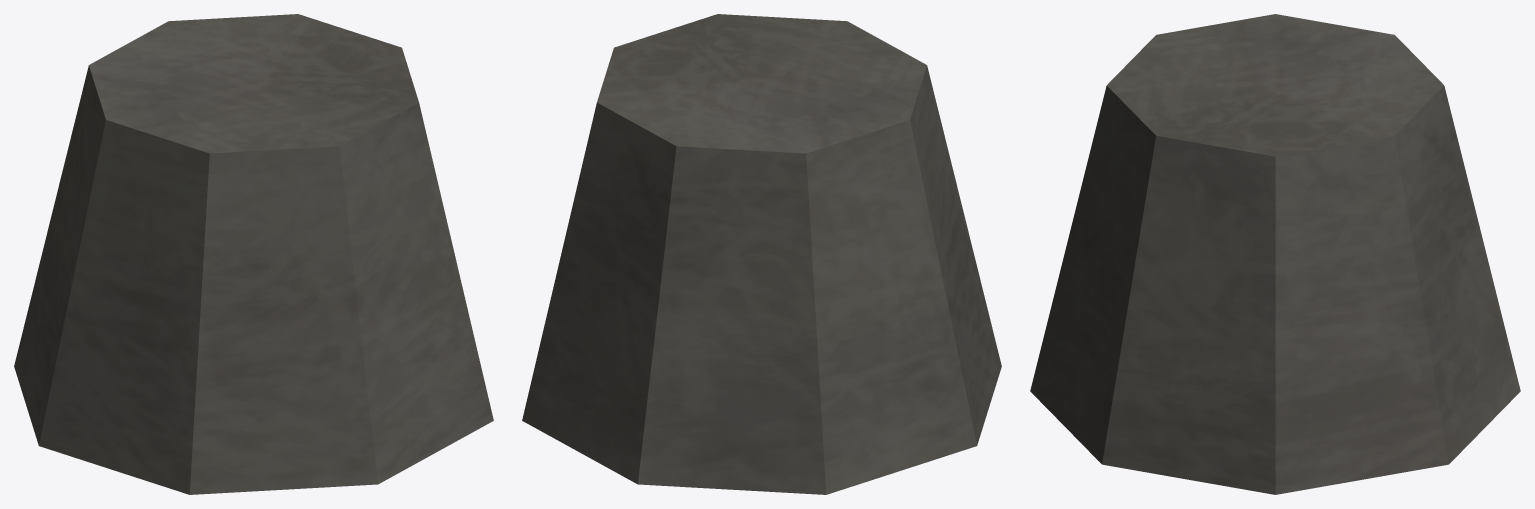
The model's file is ZachMesaRock19.fbx.
The picture shows the model from 3 angles, left to right: view 1: azimuth 30°, elevation 25°; view 2: azimuth 150°, elevation 25°; view 3: azimuth 270°, elevation 25°; orthographic projection.
Parts seen in each view (by area): view 1: ZachMesaRock19; view 2: ZachMesaRock19; view 3: ZachMesaRock19.
Part boxes in pixels (<box>): ZachMesaRock19: <box>14,14,493,494</box>; ZachMesaRock19: <box>522,14,1001,494</box>; ZachMesaRock19: <box>1030,14,1520,494</box>.
Bounding box in the file's own units: 2.91 × 2 × 2.91.
